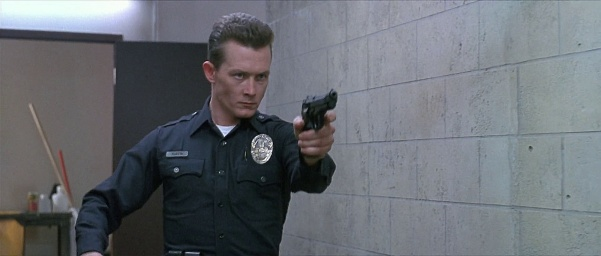pistol: (296, 85, 340, 145)
